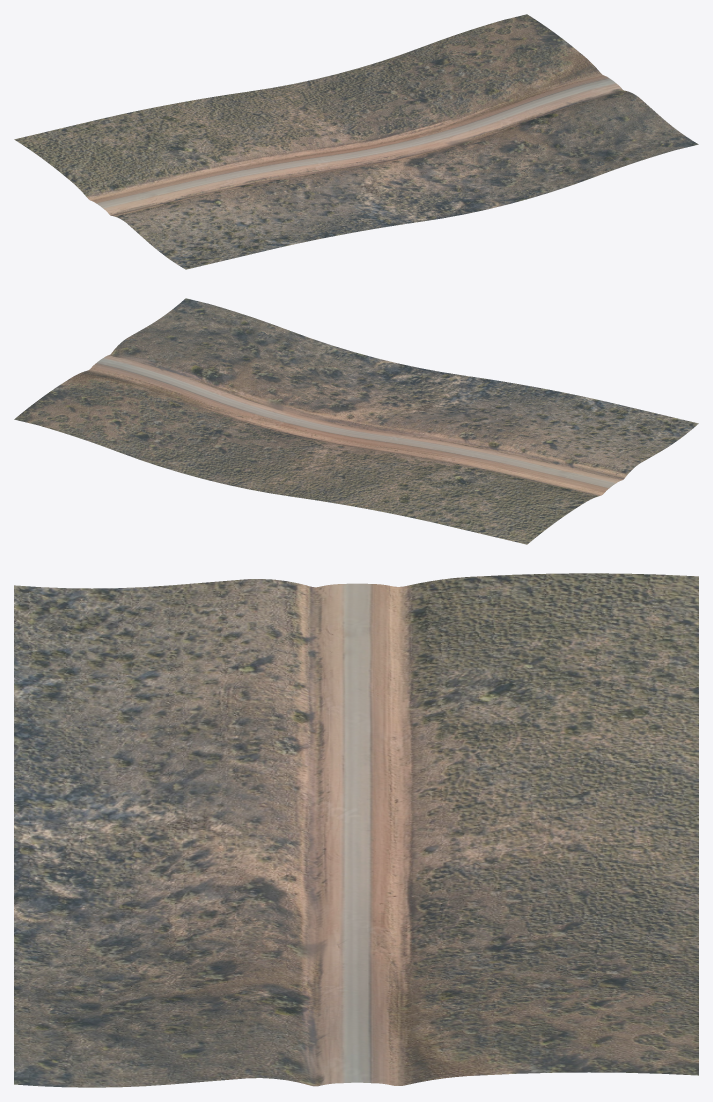
The model's file is AmericanRoad.dae.
The picture shows the model from 3 angles, top to bottom: view 1: azimuth 30°, elevation 25°; view 2: azimuth 150°, elevation 25°; view 3: azimuth 270°, elevation 25°; orthographic projection. The views are drawn at different scales.
Visible parts, largest first — view 1: group_0; view 2: group_0; view 3: group_0.
Part boxes in pixels (x1,y1,x2,y2): group_0: (14,14,698,269); group_0: (14,298,698,544); group_0: (14,573,698,1087).
Bounding box in the file's own units: 12006 × 6963 × 471.
